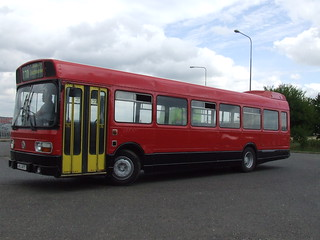bus: (8, 58, 290, 187)
